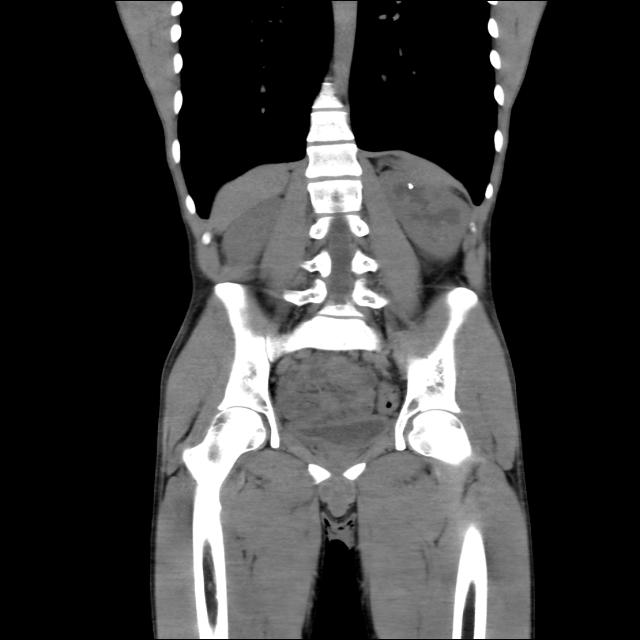kidneystone: (407, 182, 414, 189)
